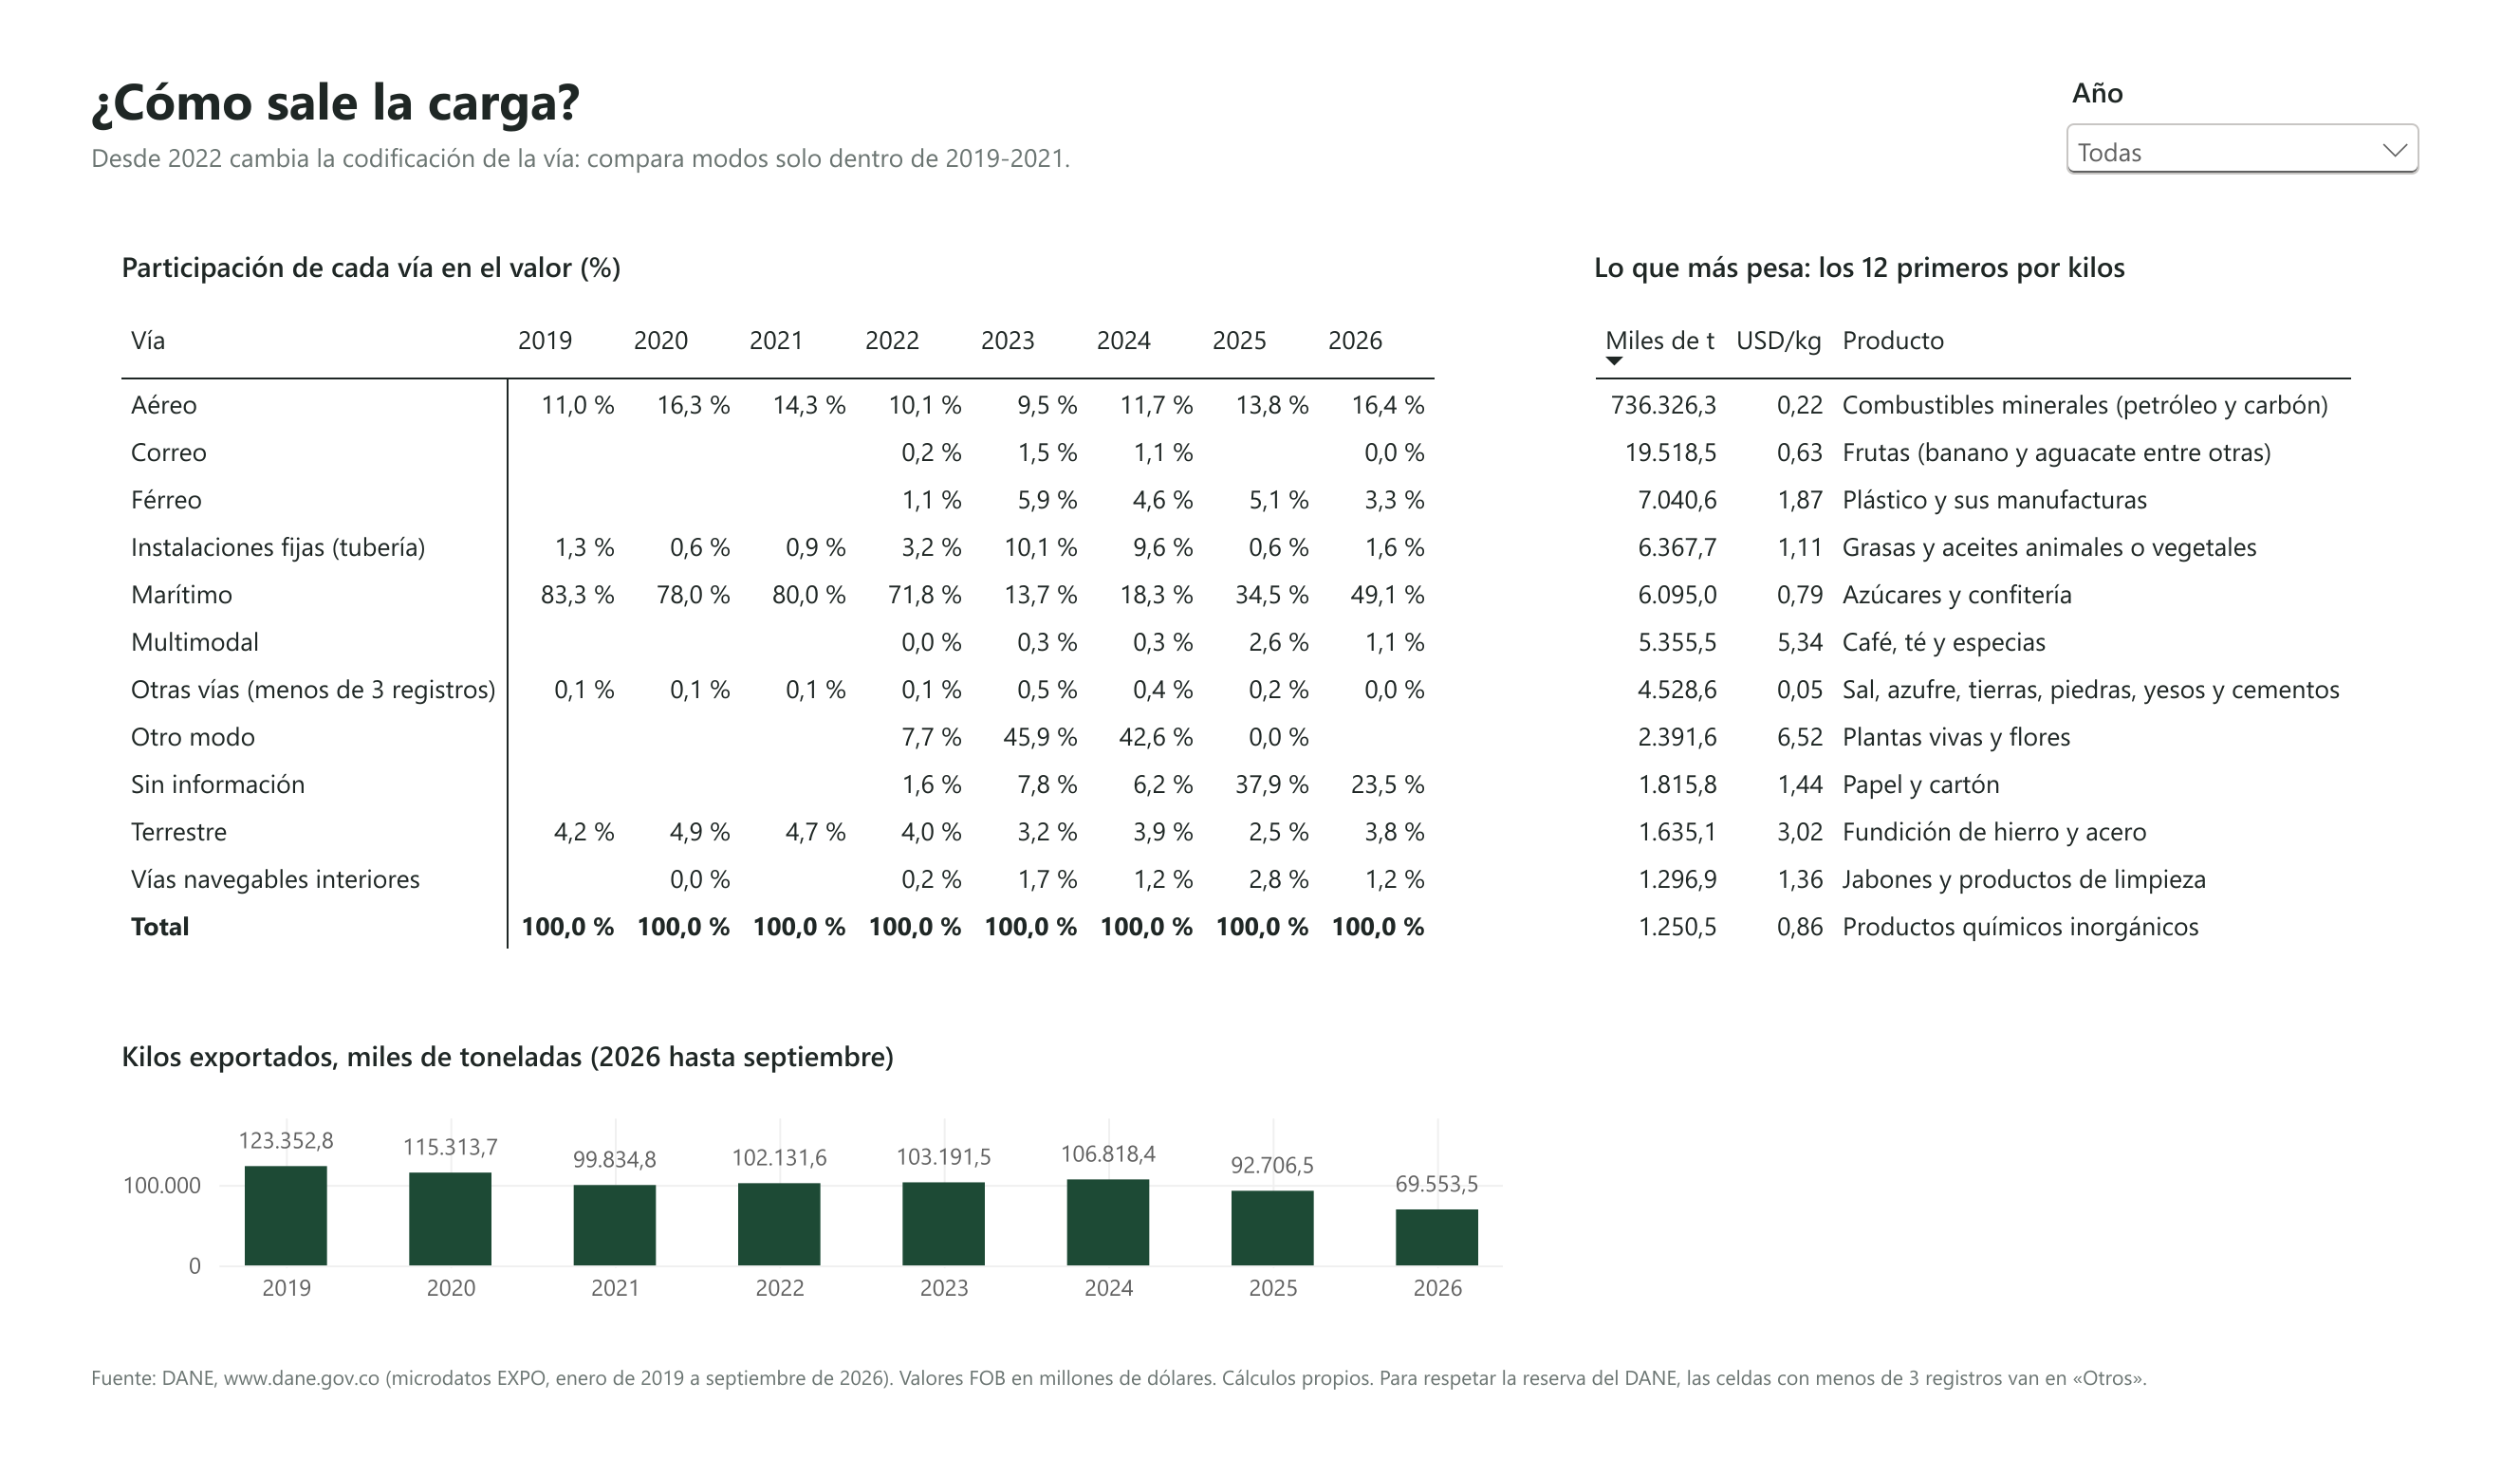

Layout of this report page (visuals, bound fields, positions):
{"tool":"powerbi","page":{"name":"Logística","canvas":[1280,720],"ordinal":4},"visuals":[{"type":"textbox","box":[24,10,800,44],"z":0},{"type":"textbox","box":[24,50,800,30],"z":1},{"type":"slicer","fields":{"Values":["Calendario.Año"]},"box":[1060,14,196,64],"z":2},{"type":"pivotTable","title":"Participación de cada vía en el valor (%)","fields":{"Columns":["Calendario.Año"],"Rows":["dim_via.Vía"],"Values":["Medidas.Participación %"]},"box":[24,92,760,404],"z":3},{"type":"tableEx","title":"Lo que más pesa: los 12 primeros por kilos","fields":{"Values":["Medidas.Kilos netos (miles de t) · 12 primeros productos por kilos","Medidas.USD por kilo · 12 primeros productos por kilos","dim_capitulo.Producto"]},"box":[800,92,456,592],"z":4},{"type":"clusteredColumnChart","title":"Kilos exportados, miles de toneladas (2026 hasta septiembre)","fields":{"Category":["Calendario.Año"],"Y":["Medidas.Kilos netos (miles de t)"]},"box":[24,508,760,176],"z":5},{"type":"textbox","box":[24,692,1232,24],"z":90}]}

Visuals, with their boxes in screenshot pixels (x1, y1, x2, y2), scaled from the page's 1280x720 canvas onto the 2520x1457 screenshot:
textbox: x1=47, y1=20, x2=1622, y2=109
textbox: x1=47, y1=101, x2=1622, y2=162
slicer - Calendario.Año: x1=2087, y1=28, x2=2473, y2=157
"Participación de cada vía en el valor (%)" pivotTable: x1=47, y1=186, x2=1544, y2=1004
"Lo que más pesa: los 12 primeros por kilos" tableEx: x1=1575, y1=186, x2=2473, y2=1384
"Kilos exportados, miles de toneladas (2026 hasta septiembre)" clusteredColumnChart: x1=47, y1=1028, x2=1544, y2=1384
textbox: x1=47, y1=1400, x2=2473, y2=1448
